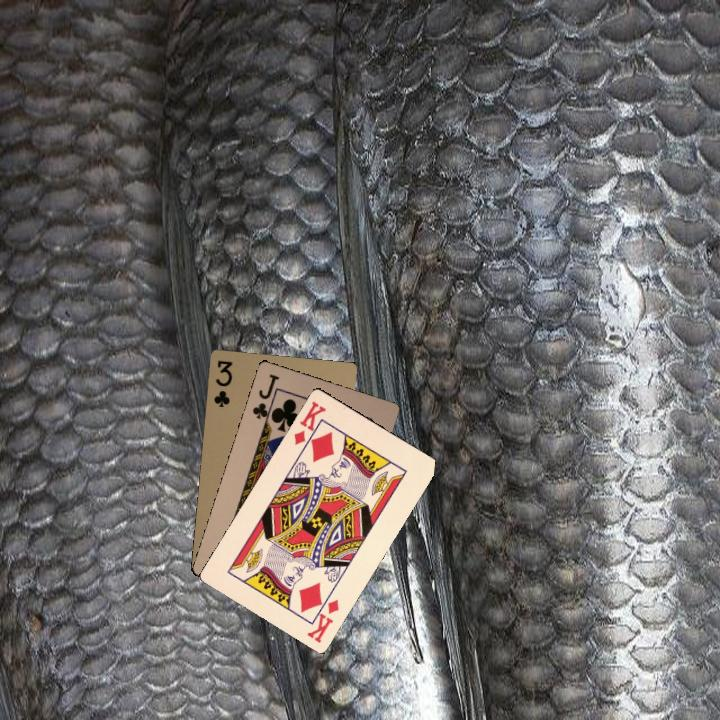3c: (210, 356, 235, 410)
Jc: (248, 370, 282, 426)
Kd: (303, 587, 342, 645), (290, 397, 328, 451)
